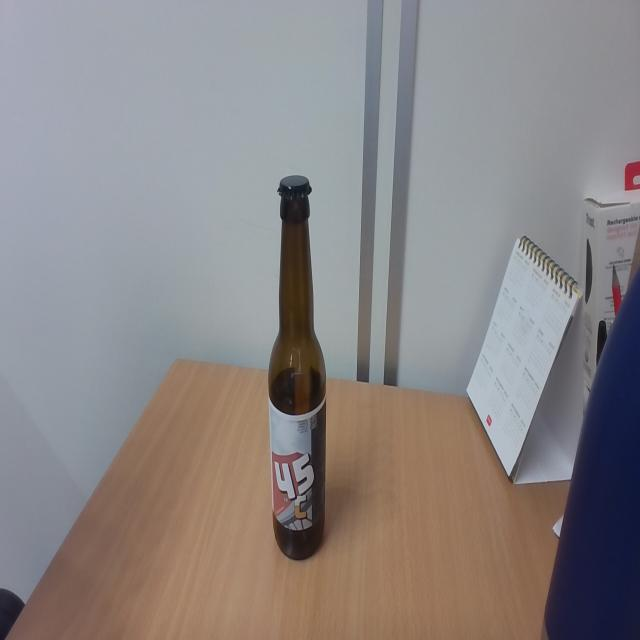Bottle: (268, 172, 328, 561)
Cap: (275, 174, 314, 203)
Label: (268, 402, 328, 530)
